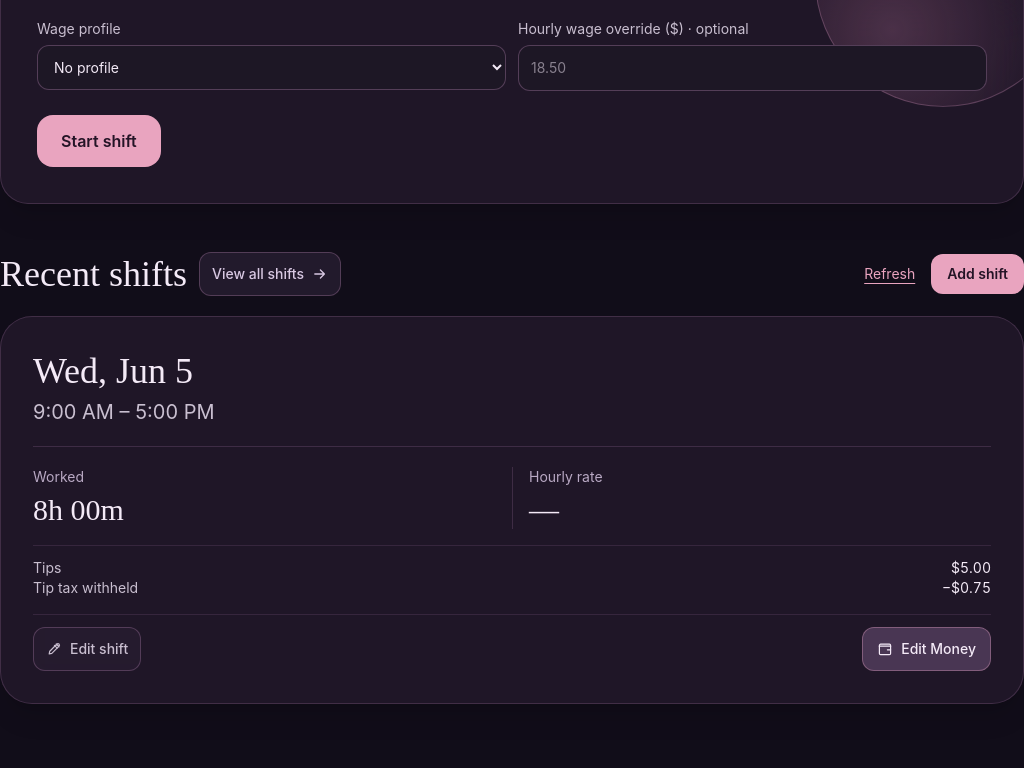
Test: shift logger › deletes a completed shift only after confirmation and refreshes history after success
(page scrolled)
Click the button "Edit shift".
click(87, 648)  # box [33, 626, 141, 670]
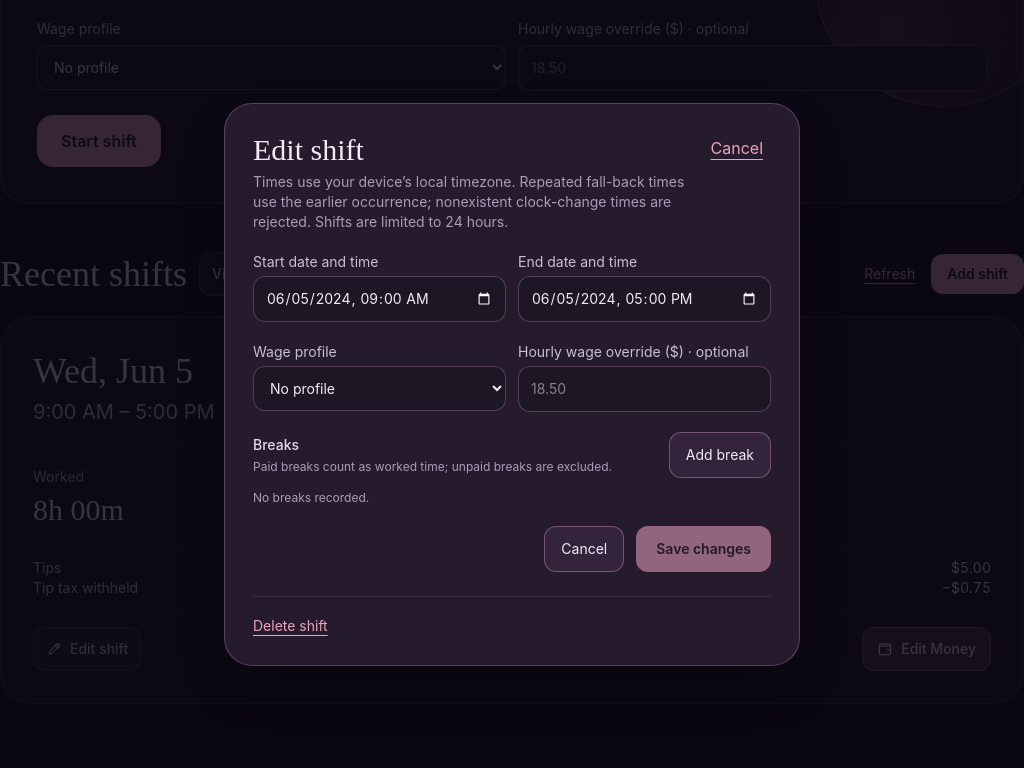
Click the button "Delete shift".
click(290, 626)  # box [253, 616, 328, 636]
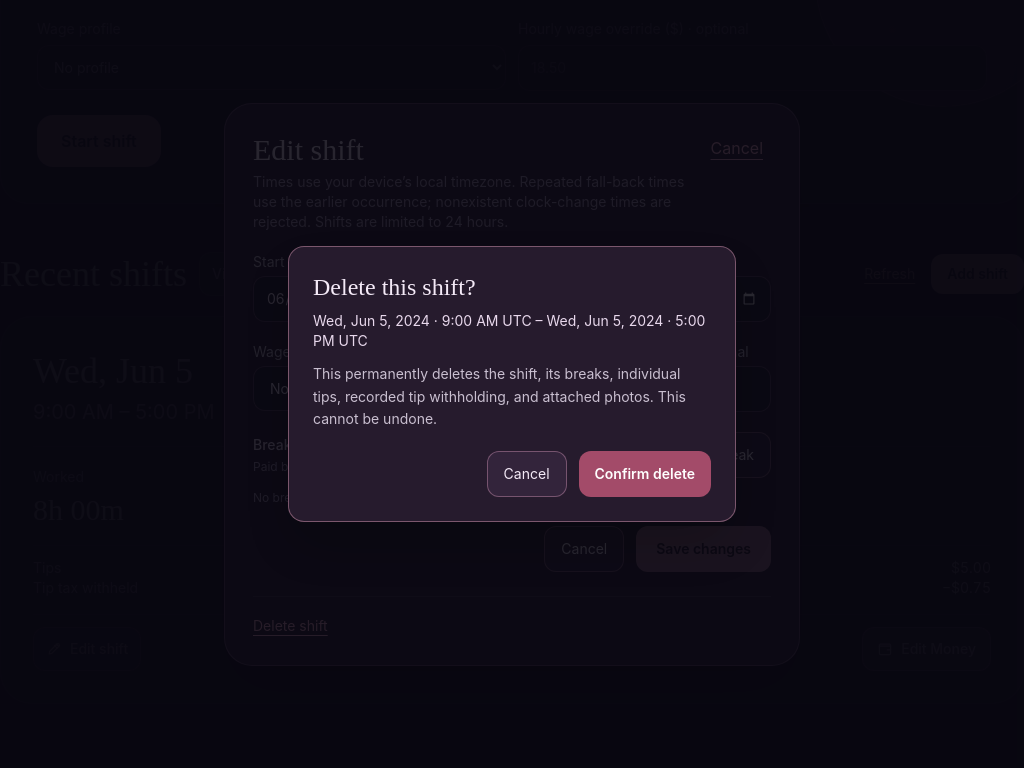
Click the button "Cancel".
click(527, 474)  # box [487, 451, 566, 497]
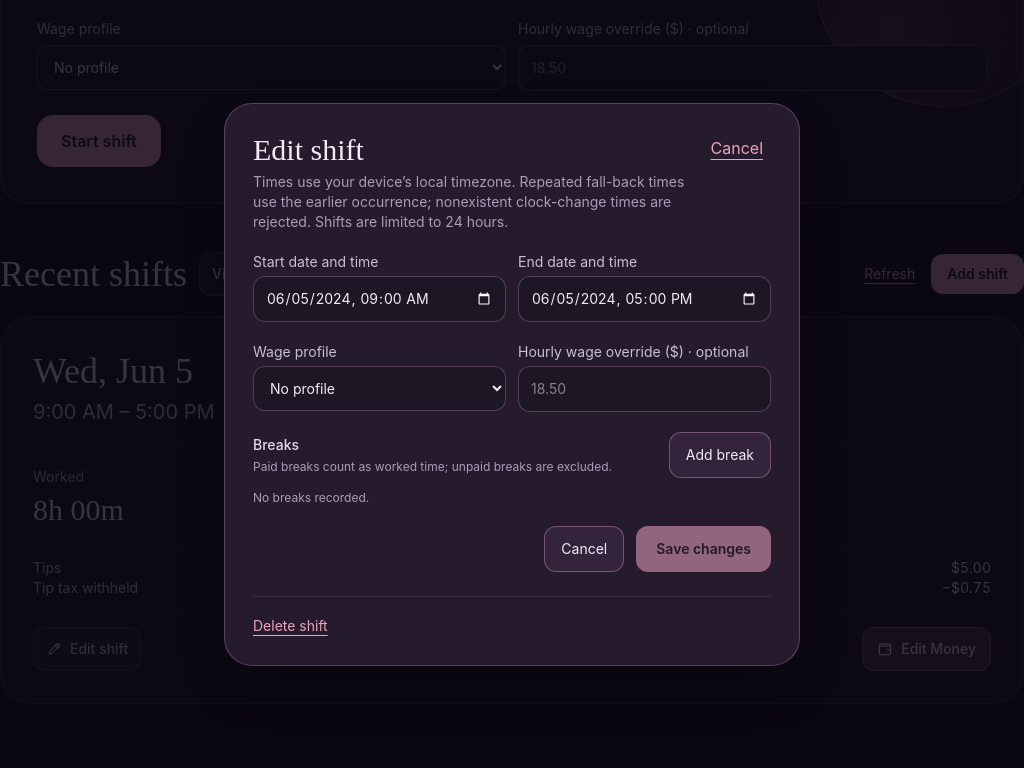
Expected: the element that starts with "Wed, Jun 5" is shown, [0, 316, 1023, 704]
Click the button "Delete shift".
click(290, 626)  # box [253, 616, 328, 636]
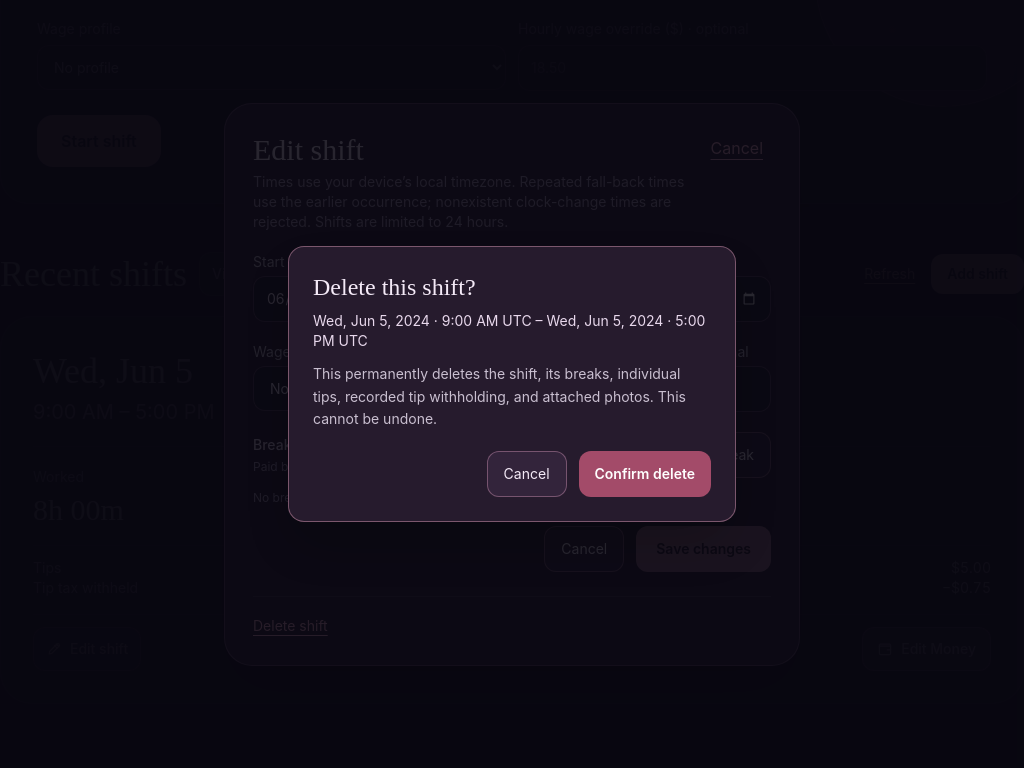
Click the button "Confirm delete".
click(645, 474)  # box [578, 451, 711, 497]
(page scrolled)
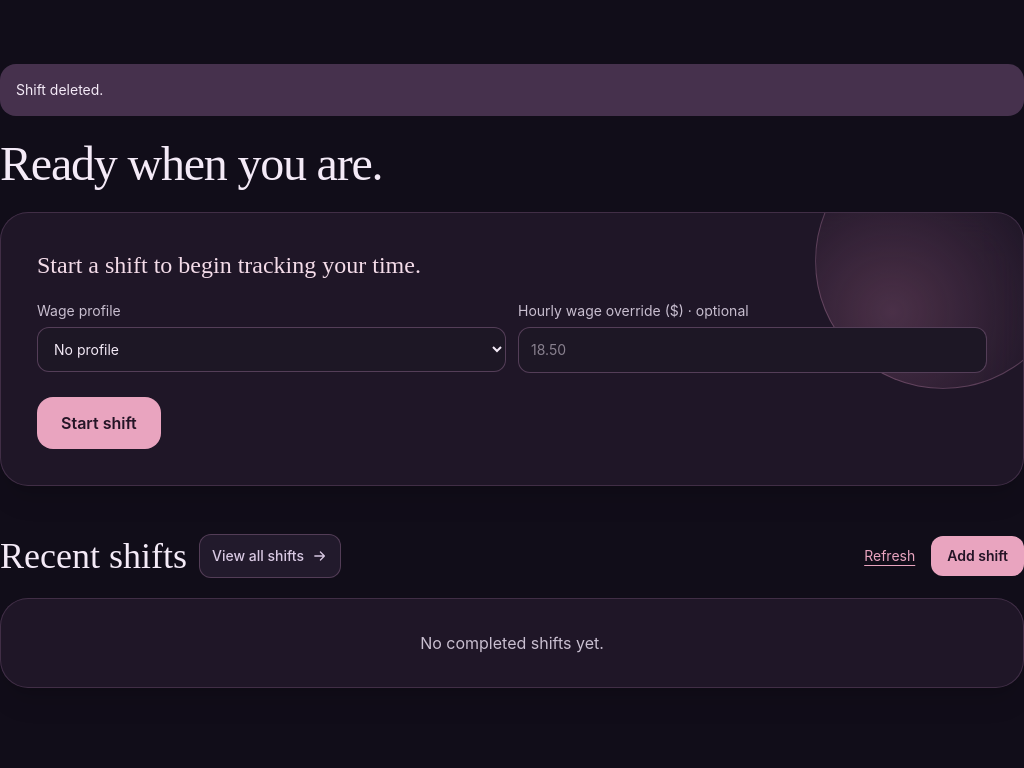
Result: the text "Shift deleted." is shown at [0, 64, 1023, 116]
